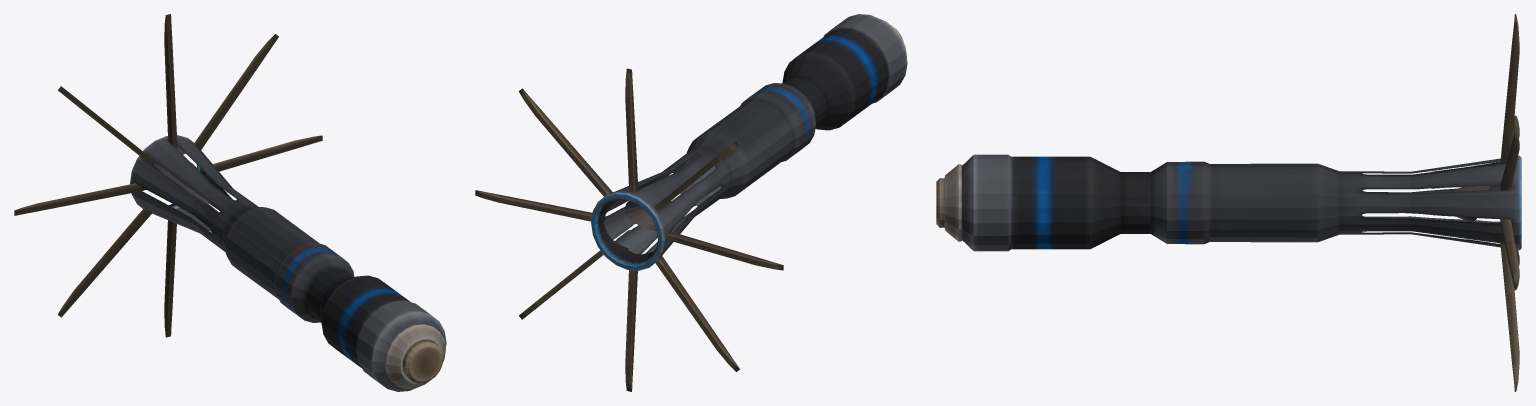
The model's file is RocketBullet.fbx.
The picture shows the model from 3 angles, left to right: view 1: azimuth 30°, elevation 25°; view 2: azimuth 150°, elevation 25°; view 3: azimuth 270°, elevation 25°; orthographic projection. The views are drawn at different scales.
Visible parts, largest first — view 1: SM_Projectile_RocketLauncher.mo; view 2: SM_Projectile_RocketLauncher.mo; view 3: SM_Projectile_RocketLauncher.mo.
Boxes of the visible parts, x1,y1,x2,y2 form: SM_Projectile_RocketLauncher.mo: (14, 14, 446, 391); SM_Projectile_RocketLauncher.mo: (475, 14, 907, 391); SM_Projectile_RocketLauncher.mo: (936, 14, 1521, 391).
Bounding box in the file's own units: 38.82 × 38.82 × 56.82.
